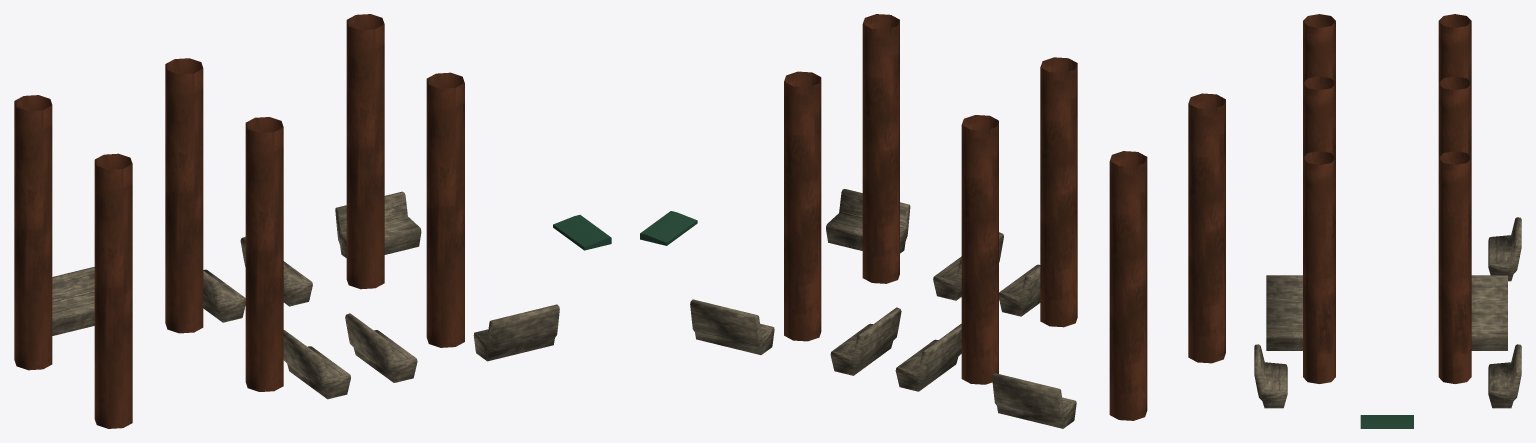
File: LMA_chapel_props_low.dae
The picture shows the model from 3 angles, left to right: view 1: azimuth 30°, elevation 25°; view 2: azimuth 150°, elevation 25°; view 3: azimuth 270°, elevation 25°; orthographic projection. The views are drawn at different scales.
Visible parts, largest first — view 1: chapel_Module_Common_LMA_chapel_props_low; view 2: chapel_Module_Common_LMA_chapel_props_low; view 3: chapel_Module_Common_LMA_chapel_props_low.
Part boxes in pixels (x1,y1,x2,y2): chapel_Module_Common_LMA_chapel_props_low: (14,14,611,428); chapel_Module_Common_LMA_chapel_props_low: (640,14,1225,428); chapel_Module_Common_LMA_chapel_props_low: (1254,14,1521,428).
Size of the model in its own units: 17.86 by 9.07 by 8.2.
